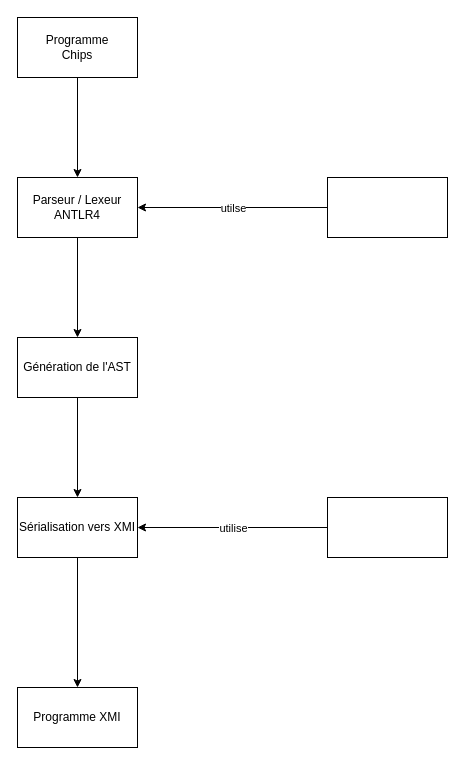
Some shapes in this 465 by 765 pixel diagram are drawn without their labels. Here are the shapes that lost their labels. From the top down, the centre of each, then its label:
pixel 387 207: Table des symboles du parseur
pixel 387 527: Table des symboles du XMI
